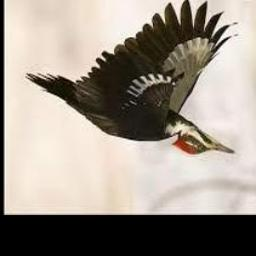Woodpecker: (25, 0, 239, 155)
